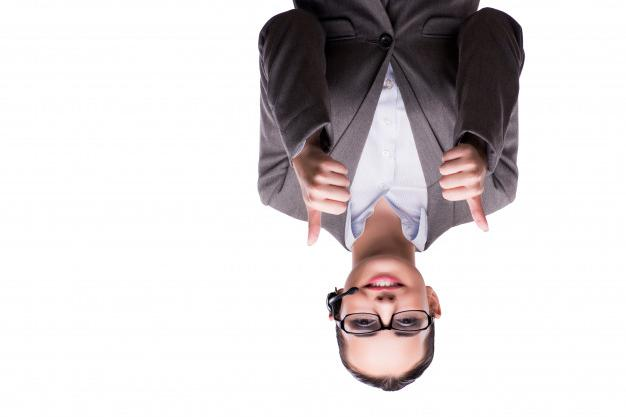thumbsdown: (439, 144, 489, 234), (304, 158, 350, 248)
